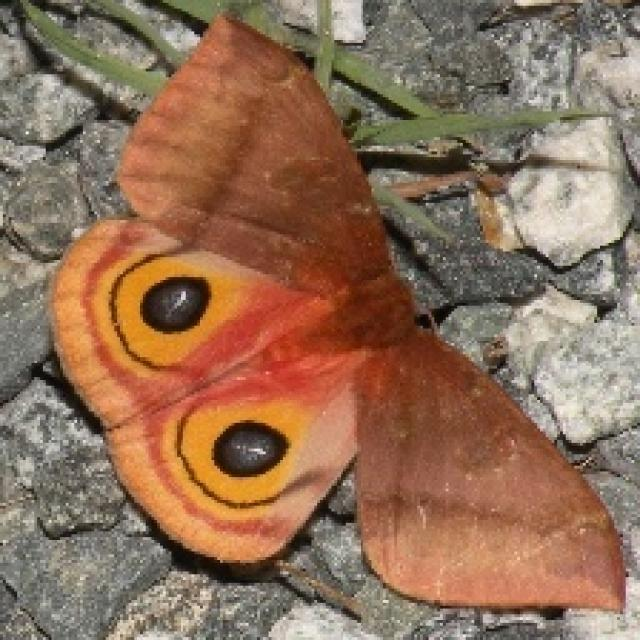butterfly: (46, 9, 628, 614)
